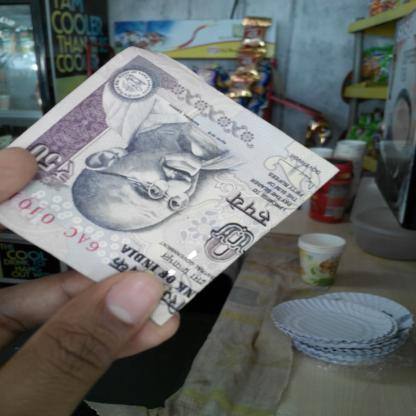Old50Front: (0, 46, 342, 327)
